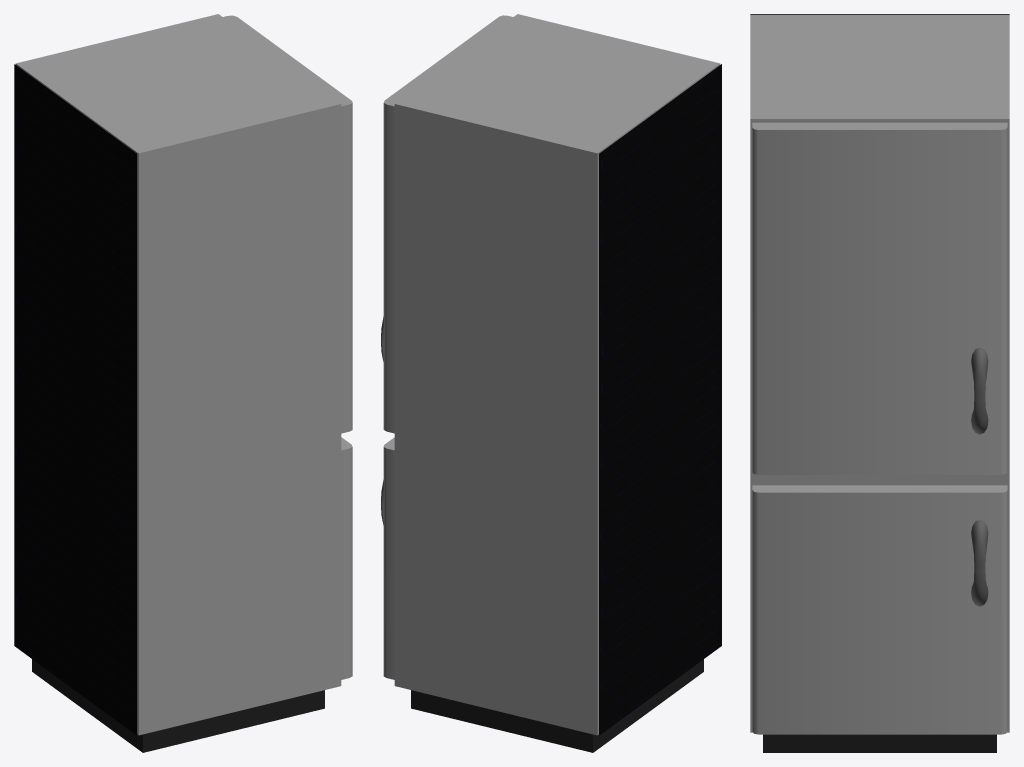
The model's file is fridge.fbx.
3 views of the same model, side by side, from view 1: azimuth 30°, elevation 25°; view 2: azimuth 150°, elevation 25°; view 3: azimuth 270°, elevation 25° (orthographic). The views are drawn at different scales.
Visible parts, largest first — view 1: Fridge, Fridge.001, TopDoor, BottomDoor; view 2: Fridge, Fridge.001, TopDoor, BottomDoor; view 3: TopDoor, BottomDoor, Fridge, Handle.001, Handle.
Part boxes in pixels (left/top/right/bottom): Fridge: left=15, top=14, right=341, bottom=752; Fridge.001: left=14, top=64, right=136, bottom=735; TopDoor: left=223, top=15, right=352, bottom=433; BottomDoor: left=341, top=437, right=352, bottom=679; Fridge: left=394, top=14, right=720, bottom=752; Fridge.001: left=599, top=64, right=721, bottom=735; TopDoor: left=383, top=15, right=512, bottom=433; BottomDoor: left=383, top=437, right=394, bottom=679; TopDoor: left=752, top=122, right=1007, bottom=474; BottomDoor: left=752, top=485, right=1007, bottom=734; Fridge: left=750, top=14, right=1009, bottom=752; Handle.001: left=971, top=347, right=988, bottom=434; Handle: left=971, top=519, right=988, bottom=606.
Size of the model in its own units: 114 by 286 by 105.
5 materials, 1 textured.
